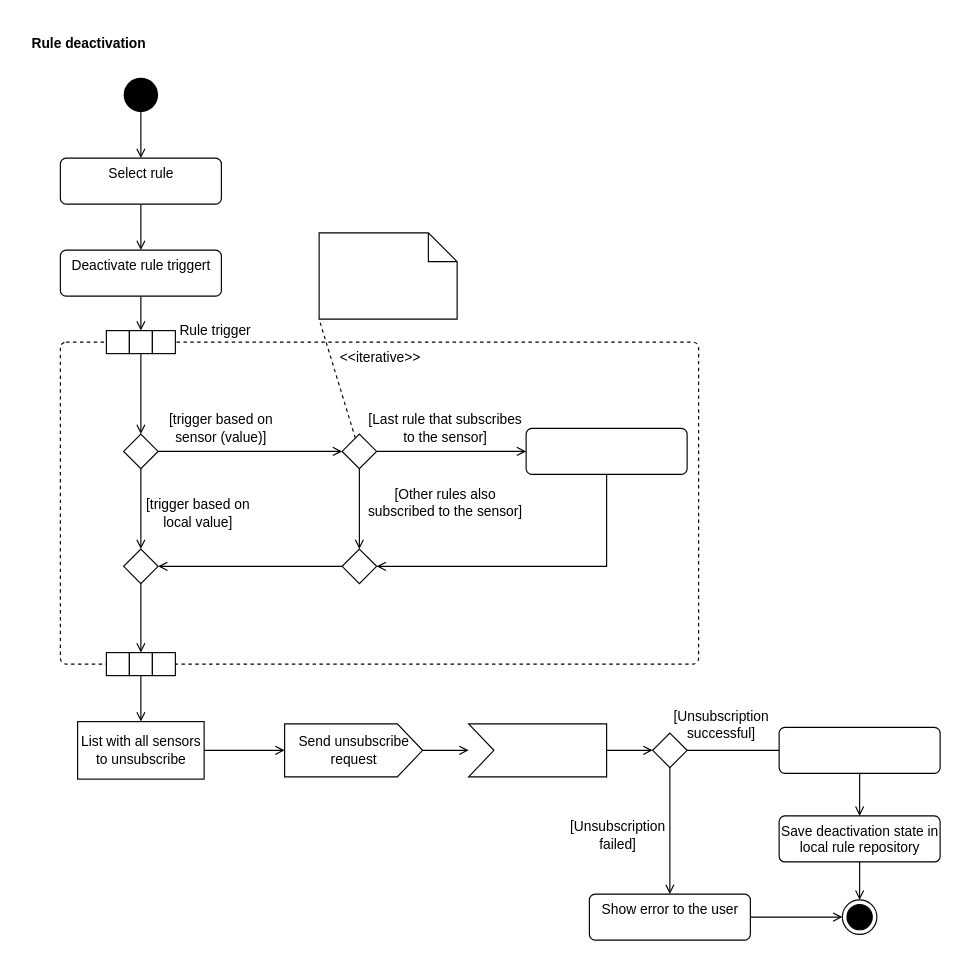
This 969x960 diagram has some shape labels left out. The shapes that lost their labels are listed below. From the top down, each one's centre as x and y in pixels, then its label:
At point 387,275: "Validate in subscription cache".
At point 606,450: "Add sensor to list with sensors to unsubsribe".
At point 537,750: "Receive unsubscribe response".
At point 859,749: "Update subscription chache".
